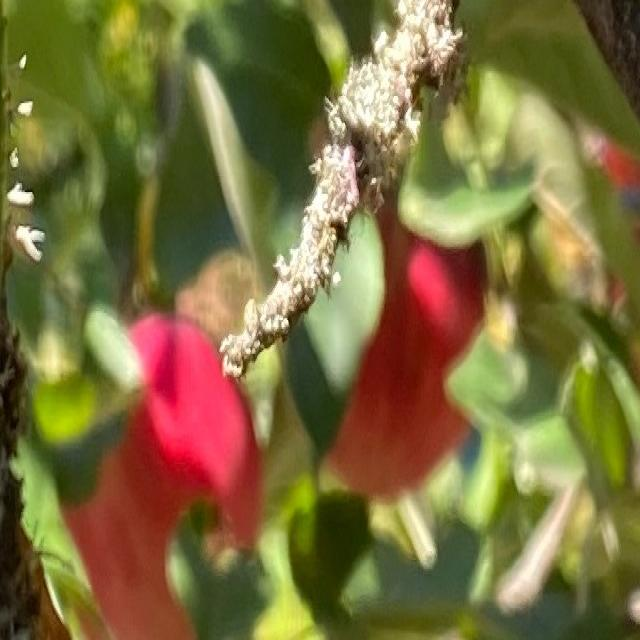100-_ripeness: (41, 311, 267, 640), (324, 206, 489, 498)
